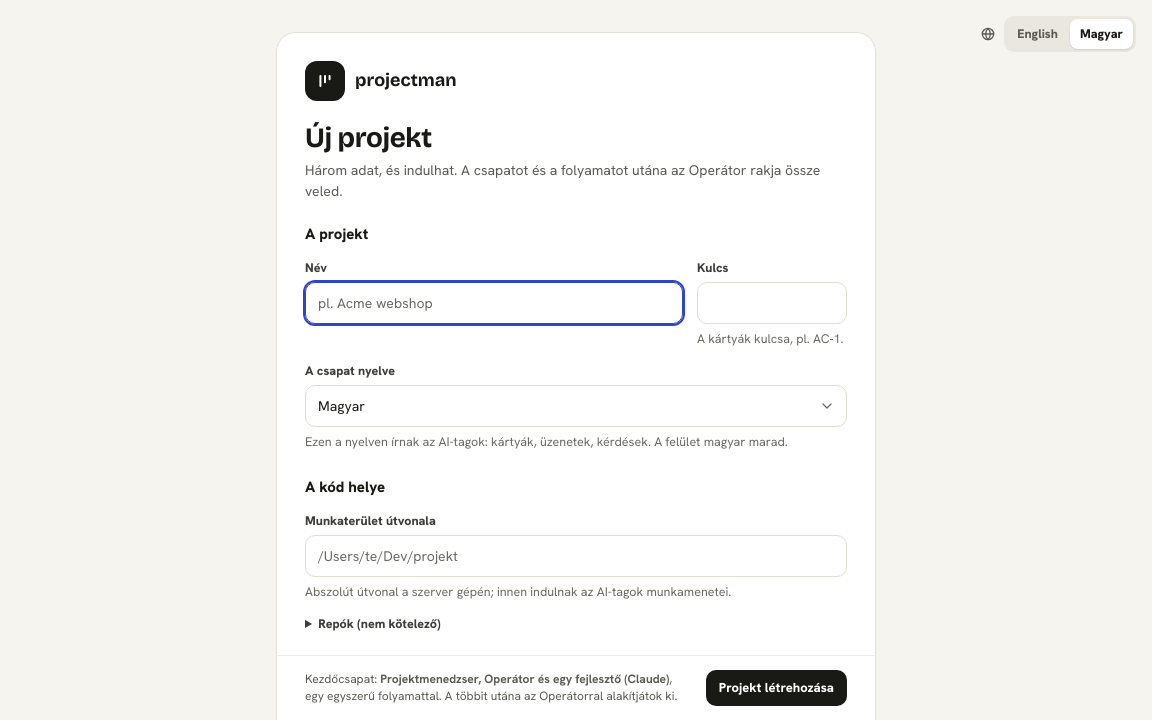
Scenario: focuses the first invalid field on submit
What coordinates should you click on to do the following:
click the button "Projekt létrehozása"
I would click on:
 (776, 688)
Its box is [706,670,847,706].
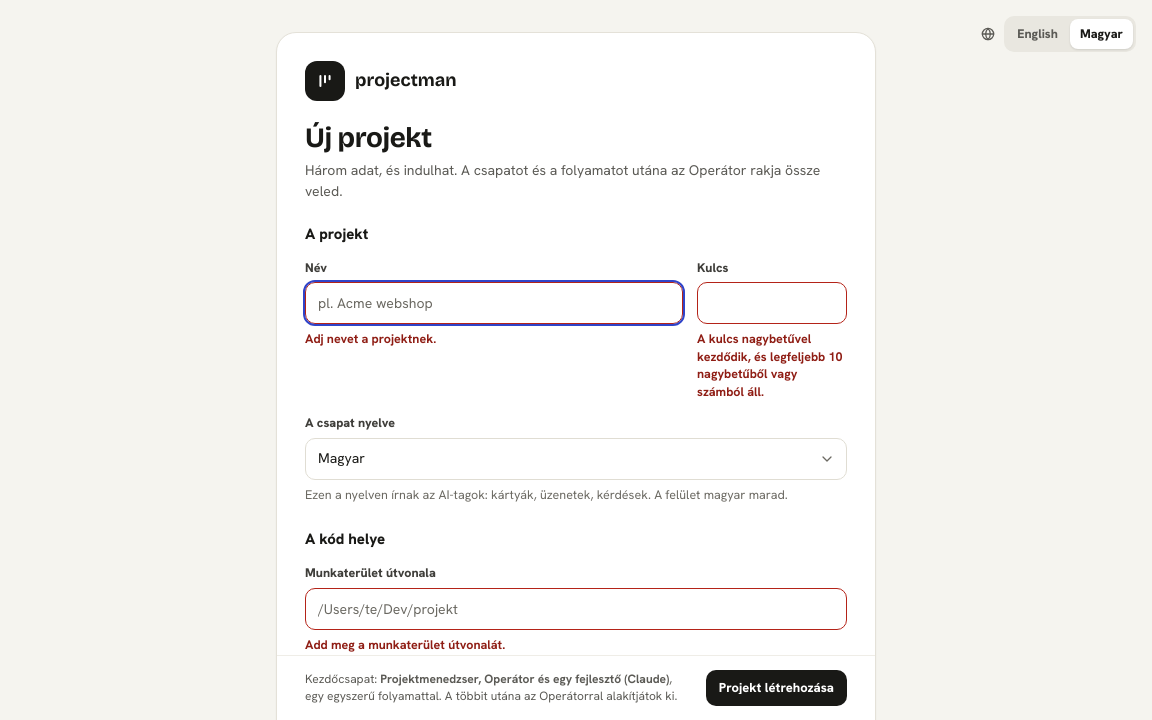
Expected: the text "Add meg a munkaterület útvonalát." is shown, [305,636,505,653]
